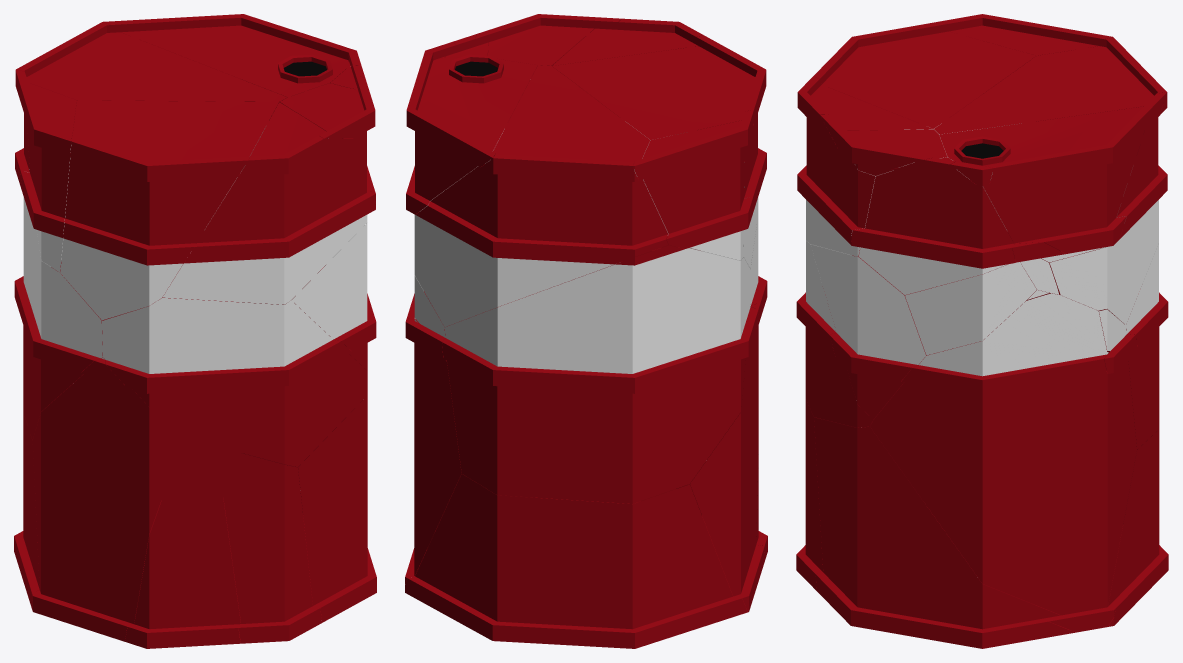
File: RedBarrel1.fbx
3 renders of one model, left to right at view 1: azimuth 30°, elevation 25°; view 2: azimuth 150°, elevation 25°; view 3: azimuth 270°, elevation 25°, orthographic.
Parts seen in each view (by area): view 1: RedBarrel_cell.002, RedBarrel_cell.017, RedBarrel_cell.005, RedBarrel_cell.009, RedBarrel_cell.006, RedBarrel_cell.008, RedBarrel_cell.016, RedBarrel_cell, RedBarrel_cell.015, RedBarrel_cell.013, RedBarrel_cell.012, RedBarrel_cell.001 (+3 smaller); view 2: RedBarrel_cell.013, RedBarrel_cell.019, RedBarrel_cell.016, RedBarrel_cell.002, RedBarrel_cell.015, RedBarrel_cell.012, RedBarrel_cell.005, RedBarrel_cell.004, RedBarrel_cell.003, RedBarrel_cell.009, RedBarrel_cell.020, RedBarrel_cell.017 (+1 smaller); view 3: RedBarrel_cell.004, RedBarrel_cell, RedBarrel_cell.016, RedBarrel_cell.015, RedBarrel_cell.010, RedBarrel_cell.002, RedBarrel_cell.001, RedBarrel_cell.009, RedBarrel_cell.007, RedBarrel_cell.019, RedBarrel_cell.017, RedBarrel_cell.013 (+6 smaller).
Part boxes in pixels (x1,y1,x2,y2): RedBarrel_cell.002: [60, 100, 278, 320]; RedBarrel_cell.017: [102, 298, 367, 466]; RedBarrel_cell.005: [32, 357, 237, 641]; RedBarrel_cell.009: [162, 102, 375, 304]; RedBarrel_cell.006: [125, 433, 240, 648]; RedBarrel_cell.008: [216, 446, 321, 643]; RedBarrel_cell.016: [15, 22, 287, 193]; RedBarrel_cell: [227, 395, 376, 621]; RedBarrel_cell.015: [103, 14, 350, 129]; RedBarrel_cell.013: [14, 161, 182, 439]; RedBarrel_cell.012: [15, 69, 76, 272]; RedBarrel_cell.001: [291, 223, 376, 370]; RedBarrel_cell.013: [442, 245, 758, 503]; RedBarrel_cell.019: [405, 474, 747, 648]; RedBarrel_cell.016: [414, 65, 668, 326]; RedBarrel_cell.002: [552, 35, 766, 268]; RedBarrel_cell.015: [406, 53, 537, 214]; RedBarrel_cell.012: [633, 110, 753, 260]; RedBarrel_cell.005: [690, 303, 764, 612]; RedBarrel_cell.004: [405, 278, 526, 583]; RedBarrel_cell.003: [475, 14, 621, 65]; RedBarrel_cell.009: [528, 18, 744, 187]; RedBarrel_cell.020: [405, 275, 445, 358]; RedBarrel_cell.017: [529, 188, 767, 306]; RedBarrel_cell.004: [870, 293, 1136, 632]; RedBarrel_cell: [814, 417, 1075, 648]; RedBarrel_cell.016: [934, 37, 1167, 324]; RedBarrel_cell.015: [939, 92, 1166, 262]; RedBarrel_cell.010: [851, 157, 1015, 294]; RedBarrel_cell.002: [813, 21, 1036, 186]; RedBarrel_cell.001: [810, 244, 925, 419]; RedBarrel_cell.009: [797, 76, 932, 256]; RedBarrel_cell.007: [905, 262, 1036, 355]; RedBarrel_cell.019: [1107, 405, 1168, 626]; RedBarrel_cell.017: [796, 187, 873, 427]; RedBarrel_cell.013: [957, 170, 1168, 449].
Bounding box in the file's own units: 400 × 567 × 400.
